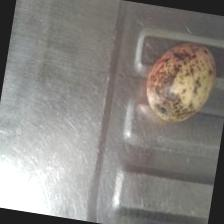Mango Overripe: (140, 32, 222, 130)
